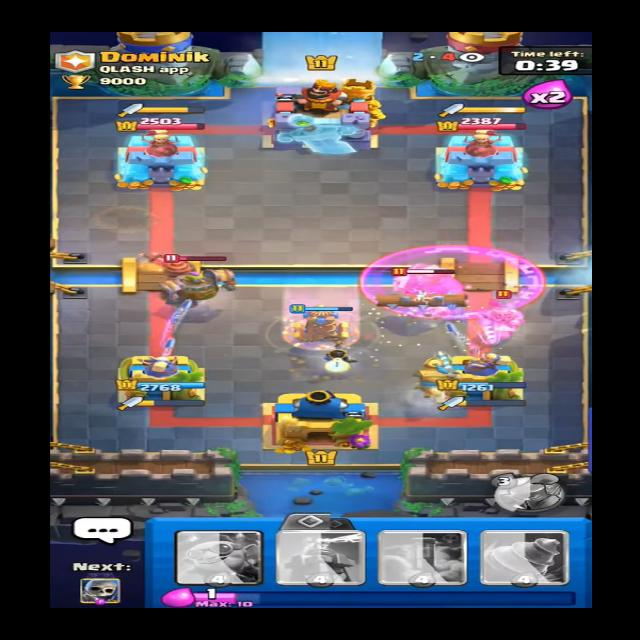Giant: (377, 258, 481, 310)
Goblinmachine: (143, 252, 240, 311)
Prince: (470, 296, 526, 342)
